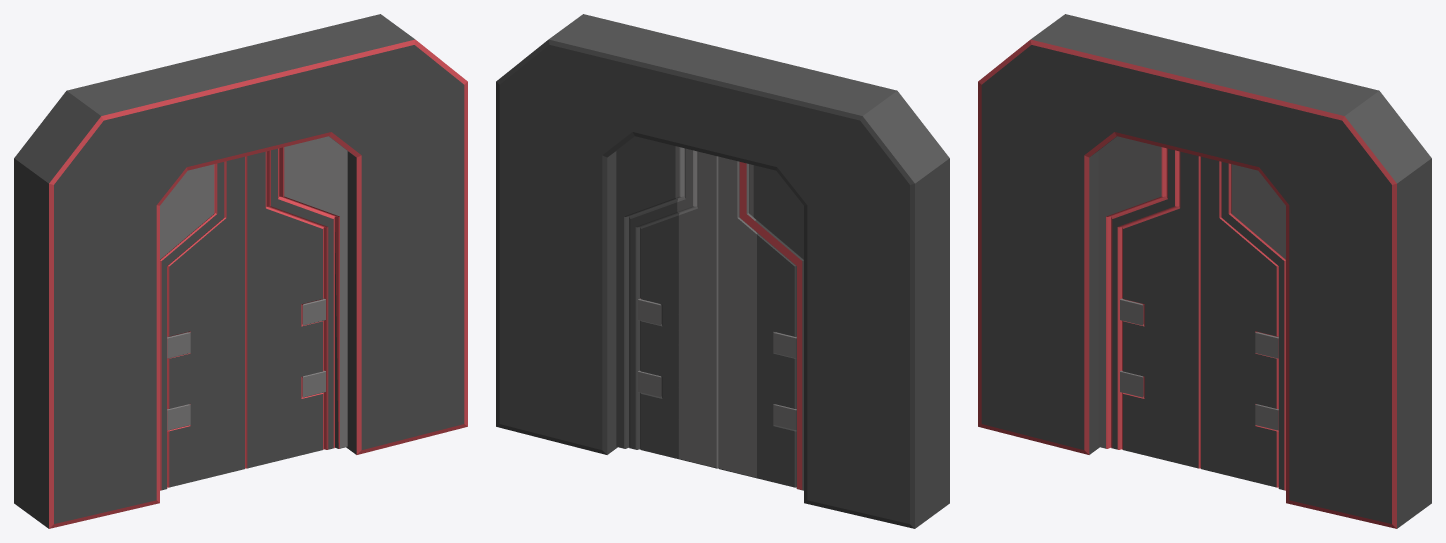
File: sci fi door.fbx
3 views of the same model, side by side, from view 1: azimuth 30°, elevation 25°; view 2: azimuth 150°, elevation 25°; view 3: azimuth 330°, elevation 25° (orthographic).
Parts seen in each view (by area): view 1: Door; view 2: Door; view 3: Door.
Part boxes in pixels (x1,y1,x2,y2): Door: (14, 14, 467, 528); Door: (496, 14, 949, 528); Door: (978, 14, 1431, 528).
Size of the model in its own units: 400 by 366 by 60.
